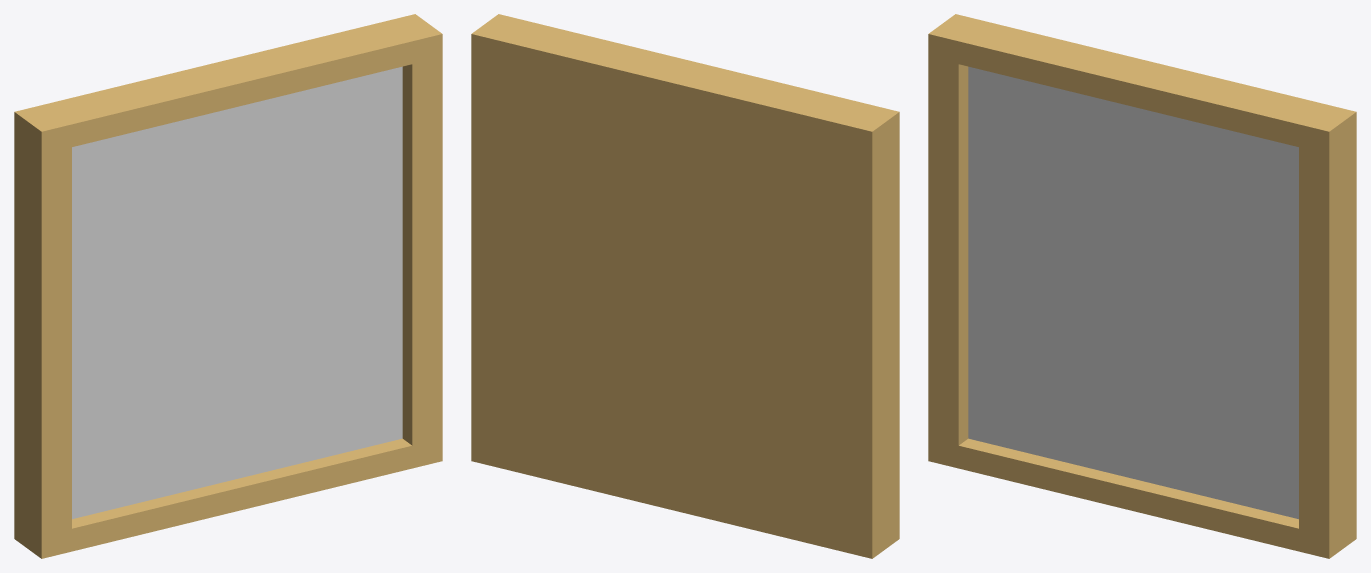
The model's file is Painting3.fbx.
The picture shows the model from 3 angles, left to right: view 1: azimuth 30°, elevation 25°; view 2: azimuth 150°, elevation 25°; view 3: azimuth 330°, elevation 25°; orthographic projection.
Visible parts, largest first — view 1: Painting_3; view 2: Painting_3; view 3: Painting_3.
Part boxes in pixels (x1,y1,x2,y2): Painting_3: [14, 14, 442, 558]; Painting_3: [471, 14, 899, 558]; Painting_3: [928, 14, 1356, 558].
Size of the model in its own units: 107 by 109 by 12.59.
